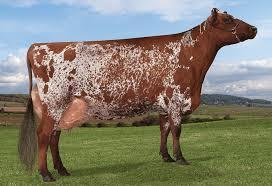cow: (19, 7, 258, 182)
